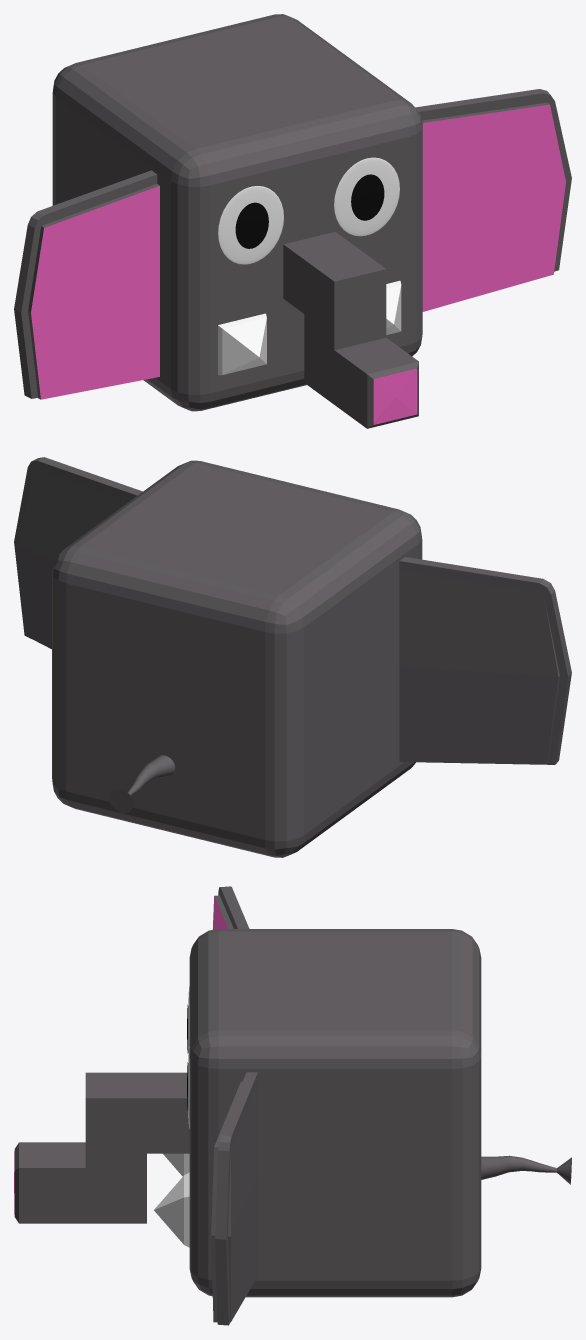
File: Elephant.fbx
The picture shows the model from 3 angles, top to bottom: view 1: azimuth 30°, elevation 25°; view 2: azimuth 150°, elevation 25°; view 3: azimuth 270°, elevation 25°; orthographic projection.
Parts seen in each view (by area): view 1: Elephant; view 2: Elephant; view 3: Elephant.
Boxes of the visible parts, x1=… form: Elephant: x1=14, y1=14, x2=571, y2=428; Elephant: x1=14, y1=457, x2=571, y2=857; Elephant: x1=14, y1=886, x2=571, y2=1325.
Bounding box in the file's own units: 446 × 200 × 382.
